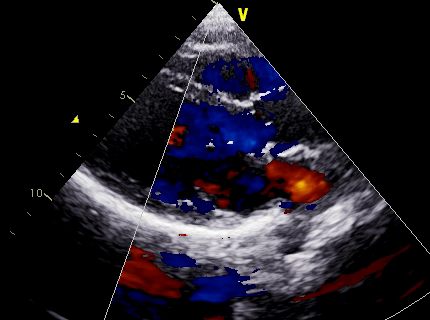MR: (147, 141, 232, 235)
